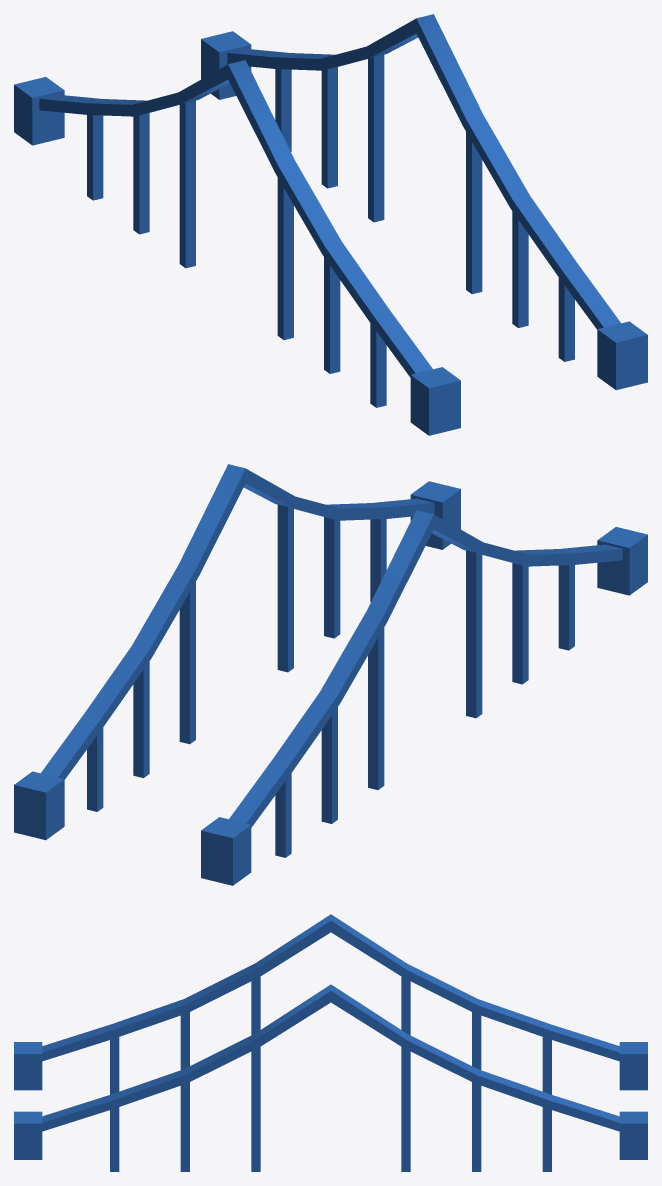
Rendered from bridge_part_03_s03.FBX.
3 views of the same model, one above another, from view 1: azimuth 30°, elevation 25°; view 2: azimuth 150°, elevation 25°; view 3: azimuth 270°, elevation 25° (orthographic). The views are drawn at different scales.
Visible parts, largest first — view 1: bridge_part_03_s03; view 2: bridge_part_03_s03; view 3: bridge_part_03_s03.
Boxes of the visible parts, x1,y1,x2,y2 form: bridge_part_03_s03: [14, 14, 647, 435]; bridge_part_03_s03: [14, 464, 647, 885]; bridge_part_03_s03: [14, 914, 647, 1171].
Size of the model in its own units: 638 by 2093 by 664.
1 material, 1 textured.
